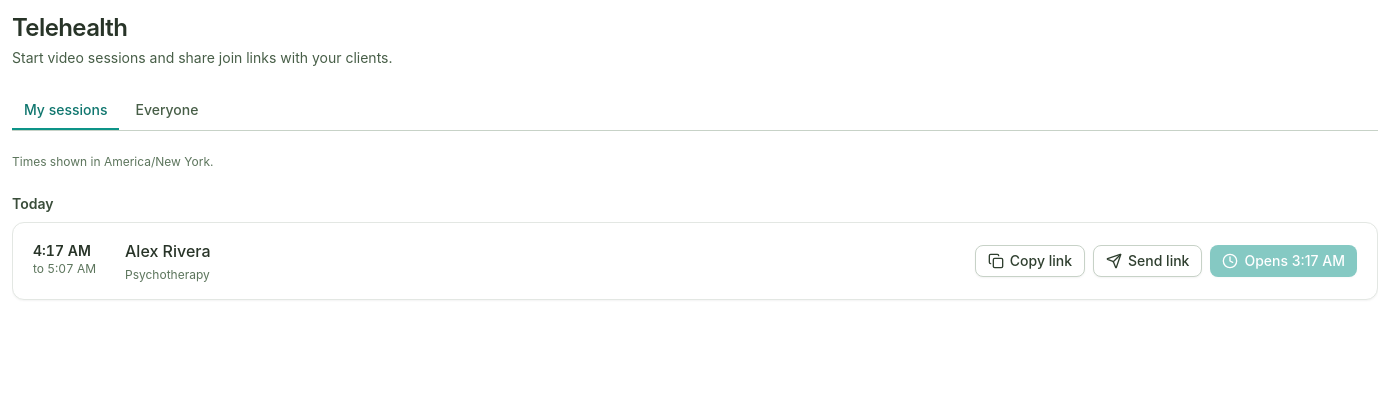
Test case: TelehealthPage › shows a clinician their own sessions, and everyone's when they manage every calendar
The image size is (1378, 418).
expect the text "Alex Rivera" is shown: met, box [125,239,210,263]
expect the text "Taylor Brooks & Morgan Brooks" is not shown: met
Click the tab "Everyone": (167, 111) [124,92,210,130]
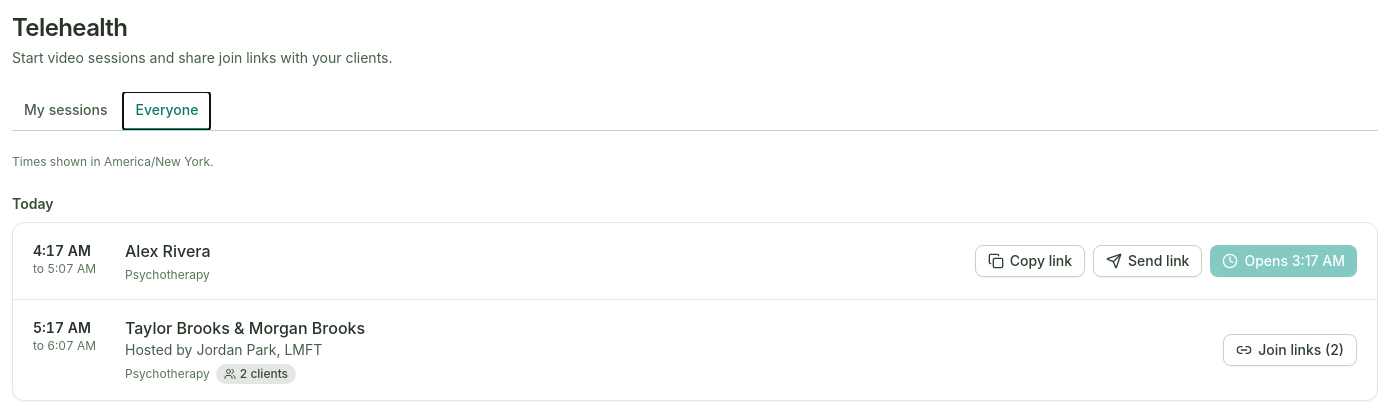
expect the text "Taylor Brooks & Morgan Brooks" is shown: met, box [125,316,365,340]
expect the text "Hosted by Jordan Park, LMFT" is shown: met, box [125,341,322,358]
expect the text "2 clients" is shown: met, box [216,364,296,384]
